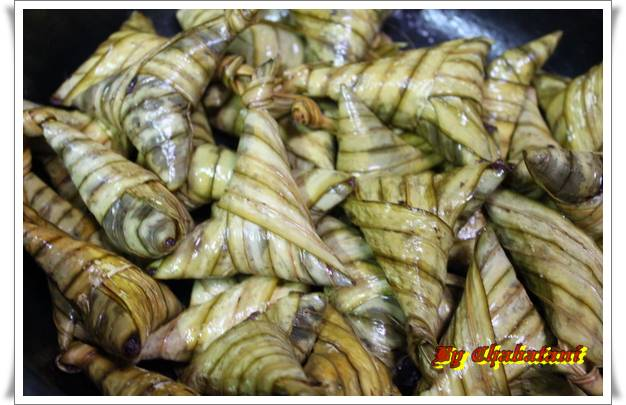kanomtom: (152, 66, 366, 292), (340, 152, 511, 366), (72, 27, 248, 196), (34, 103, 199, 270)
